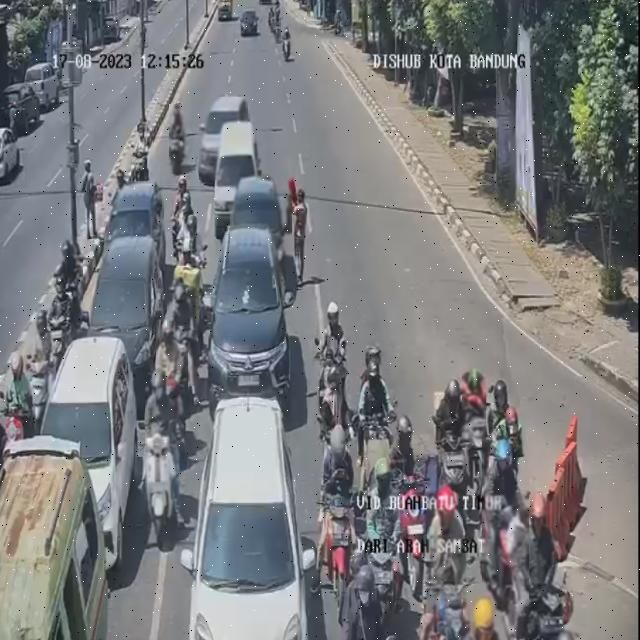cars: (186, 398, 318, 640), (0, 444, 107, 640), (42, 337, 134, 533), (212, 225, 292, 396), (81, 234, 162, 383), (230, 175, 292, 276), (106, 181, 164, 268), (215, 123, 262, 226), (199, 97, 248, 180), (238, 8, 260, 42)
motorcycle: (358, 460, 404, 640), (482, 440, 529, 604), (508, 494, 558, 638), (388, 415, 430, 583), (145, 364, 184, 540), (323, 442, 360, 602), (427, 478, 463, 640), (355, 344, 395, 478), (320, 297, 353, 434), (18, 310, 56, 426), (435, 379, 471, 497), (489, 381, 523, 493), (168, 276, 198, 386), (4, 353, 37, 447), (156, 326, 188, 418), (54, 237, 83, 333), (463, 586, 514, 640), (46, 278, 74, 364), (170, 247, 199, 330), (172, 189, 198, 274), (400, 601, 451, 640), (462, 362, 486, 442), (170, 104, 188, 174), (132, 125, 154, 182), (543, 625, 598, 640), (278, 24, 292, 64), (270, 2, 280, 30), (271, 18, 281, 44), (267, 8, 277, 34)
truck: (217, 0, 234, 19)
